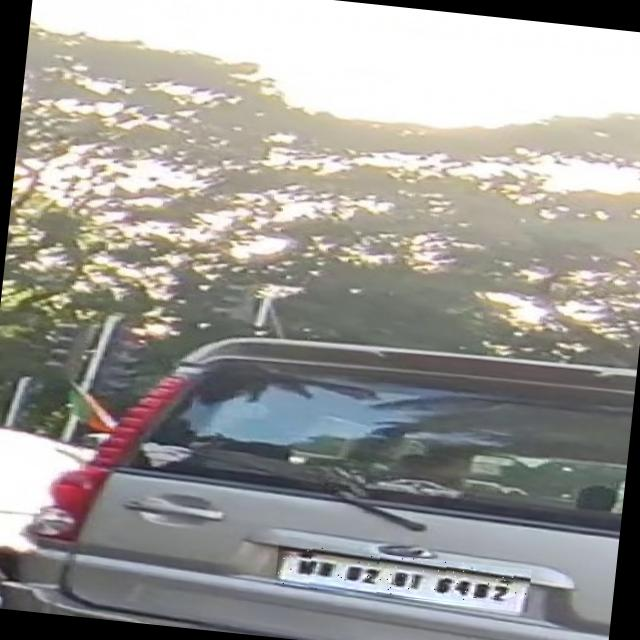Plate: (275, 544, 532, 613)
